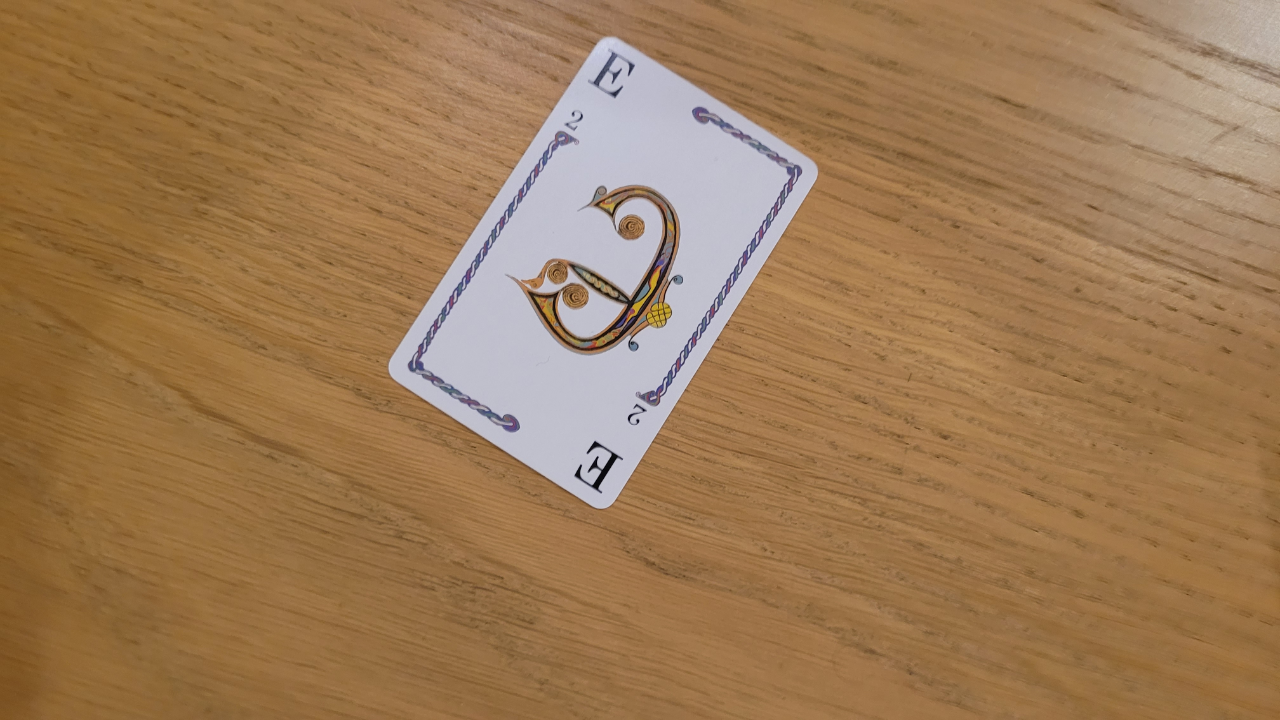quiddler_card: (373, 21, 838, 531)
